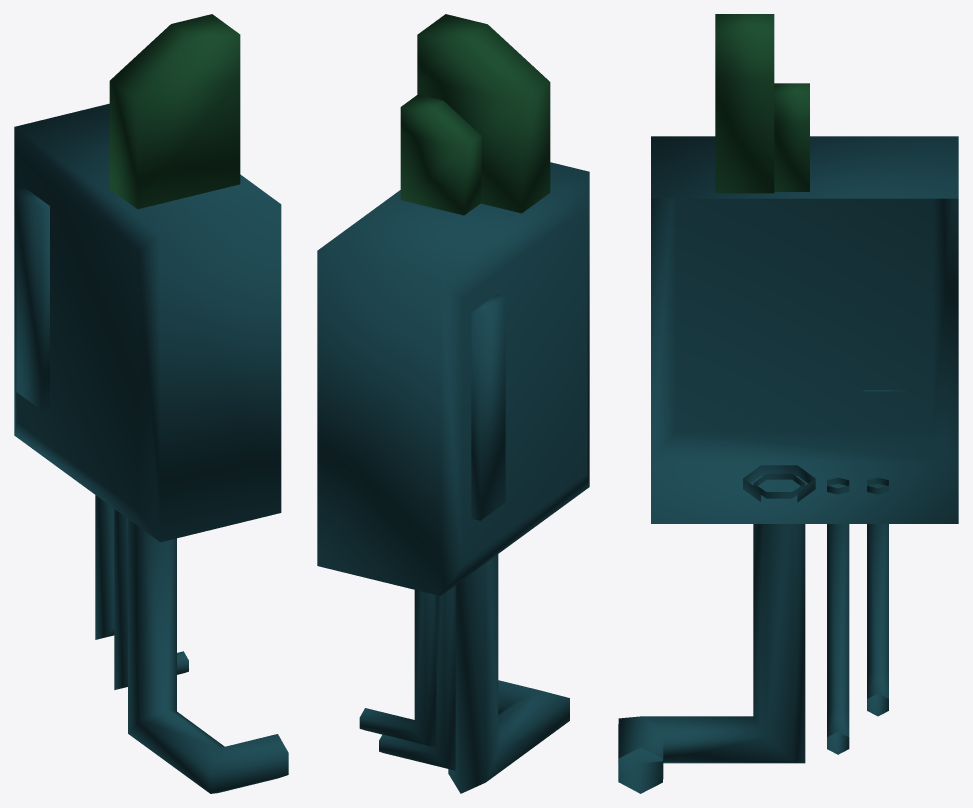
The model's file is Electrical_a.fbx.
3 renders of one model, left to right at view 1: azimuth 30°, elevation 25°; view 2: azimuth 150°, elevation 25°; view 3: azimuth 270°, elevation 25°, orthographic. The views are drawn at different scales.
Visible parts, largest first — view 1: Elecritcal; view 2: Elecritcal; view 3: Elecritcal.
Boxes of the visible parts, x1,y1,x2,y2 form: Elecritcal: [14, 14, 288, 793]; Elecritcal: [317, 14, 589, 793]; Elecritcal: [618, 14, 958, 793].
Size of the model in its own units: 0.3306 by 0.6636 by 1.63.
